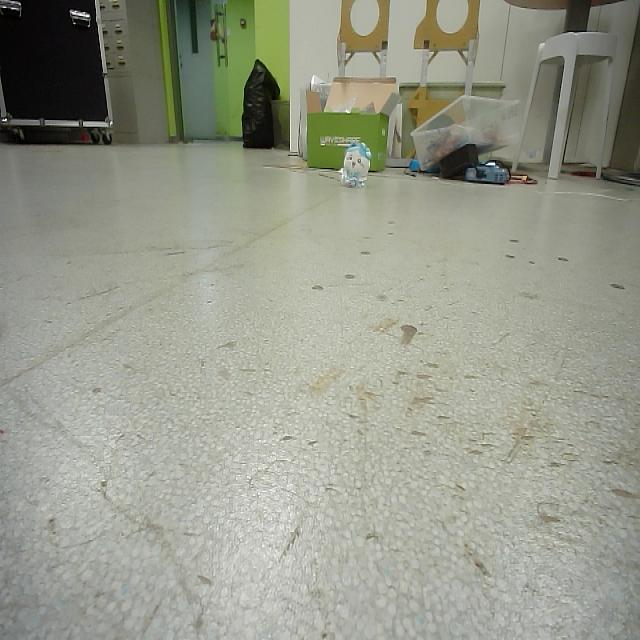xiaoba: (337, 139, 371, 193)
